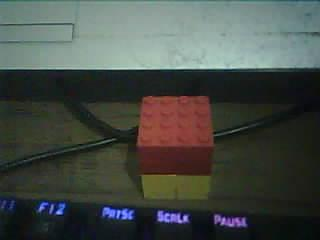lego: (136, 94, 215, 199)
